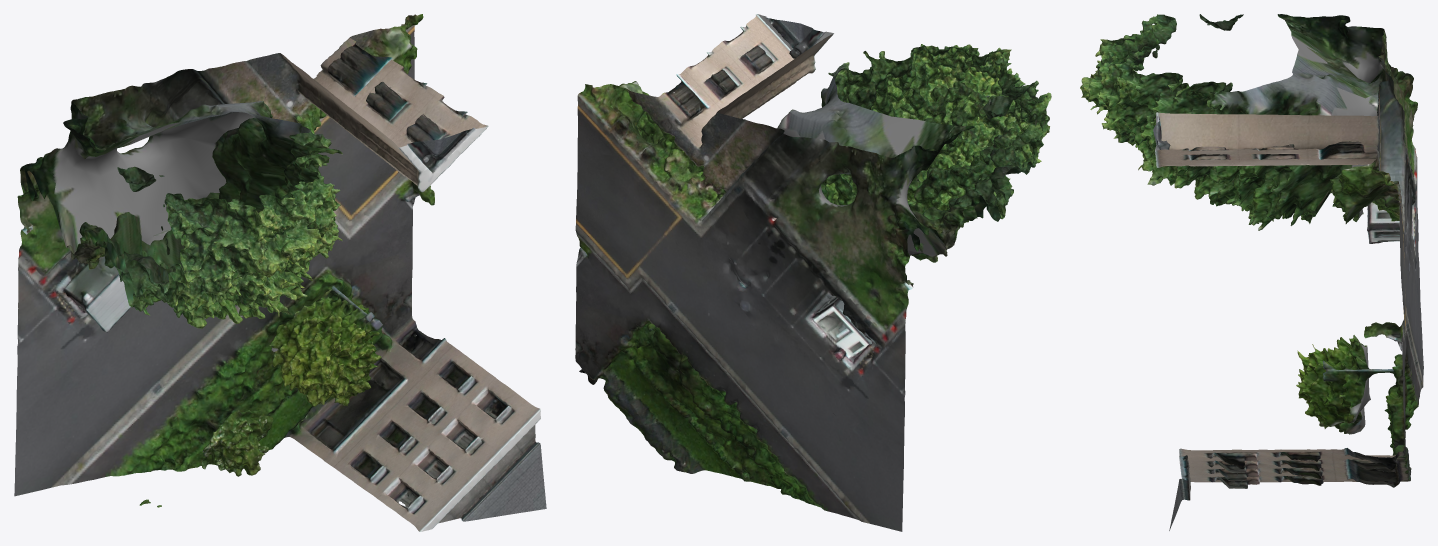
File: Tile_+005_+012.fbx
The picture shows the model from 3 angles, left to right: view 1: azimuth 30°, elevation 25°; view 2: azimuth 150°, elevation 25°; view 3: azimuth 270°, elevation 25°; orthographic projection. The views are drawn at different scales.
Visible parts, largest first — view 1: DefaultName; view 2: DefaultName; view 3: DefaultName.
Part boxes in pixels (left/top/right/bottom): DefaultName: left=14, top=14, right=546, bottom=531; DefaultName: left=575, top=14, right=1051, bottom=531; DefaultName: left=1080, top=14, right=1423, bottom=530.
Bounding box in the file's own units: 22.54 × 22.54 × 19.88.
